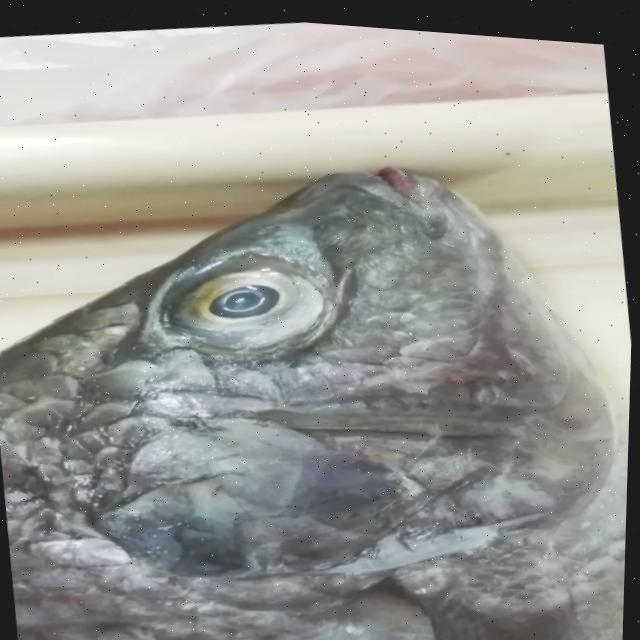Non-Fresh: (110, 209, 372, 395)
